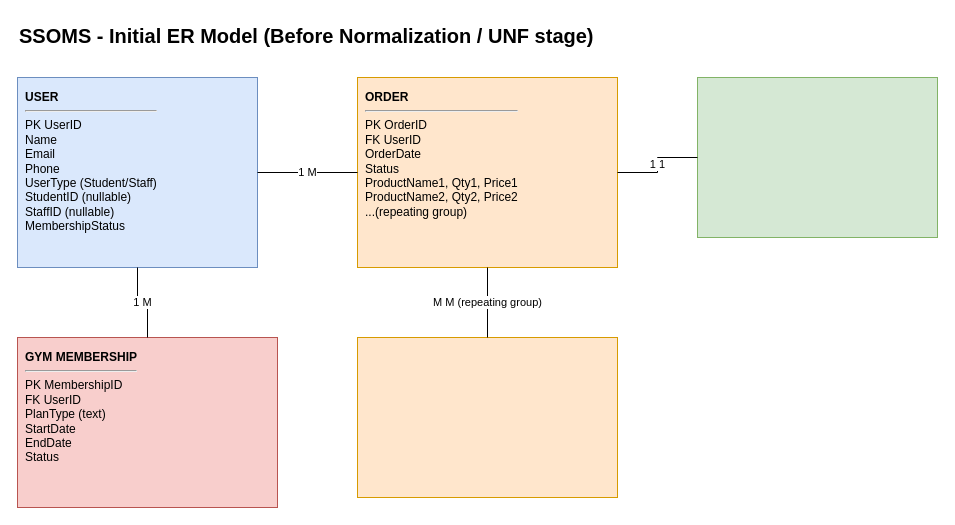
The diagram is 955 pixels wide and 525 high, and some of its shapes have lost their labels. Here are the shapes that lost their labels. From the top down, the centre of each, then its label:
the point at 817,157: PAYMENT PK PaymentID FK OrderID PaymentDate Amount Method Status
the point at 487,417: PRODUCT PK ProductID ProductName Description Price CategoryName (text) StockQty
